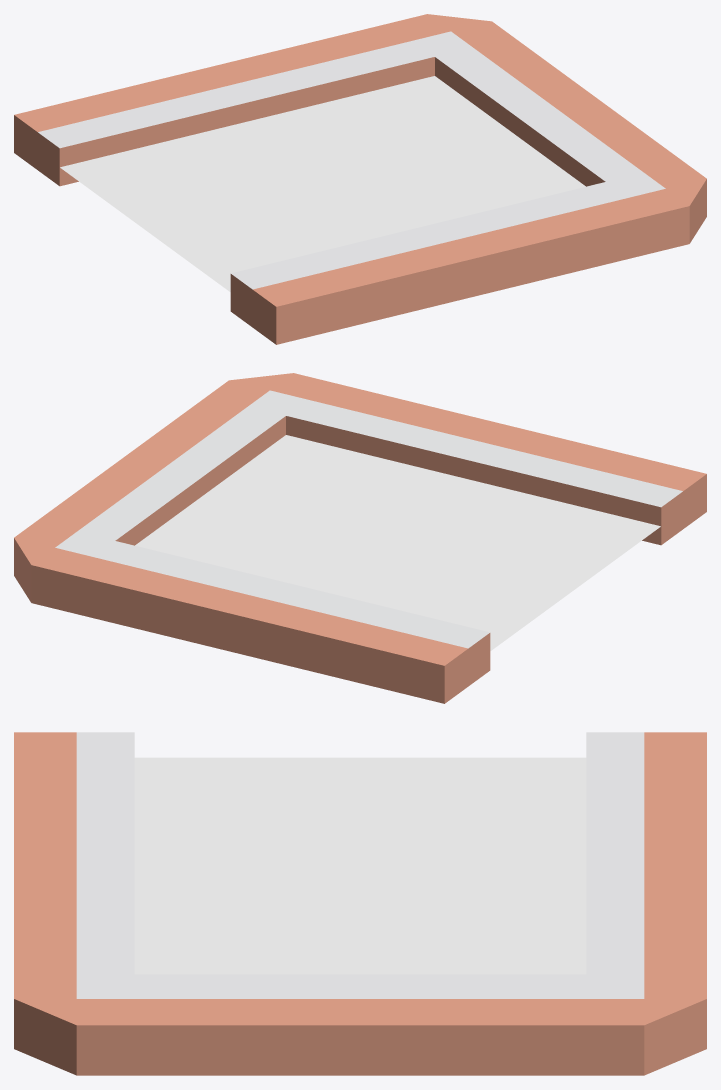
The model's file is metalTileConnectEnd.glb.
3 renders of one model, top to bottom at view 1: azimuth 30°, elevation 25°; view 2: azimuth 150°, elevation 25°; view 3: azimuth 270°, elevation 25°, orthographic. The views are drawn at different scales.
Parts seen in each view (by area): view 1: metalTileConnectEnd; view 2: metalTileConnectEnd; view 3: metalTileConnectEnd.
Part boxes in pixels (x1=…): metalTileConnectEnd: x1=14, y1=14, x2=706, y2=344; metalTileConnectEnd: x1=14, y1=373, x2=706, y2=703; metalTileConnectEnd: x1=14, y1=732, x2=706, y2=1075.
Size of the model in its own units: 10 by 0.8 by 10.
